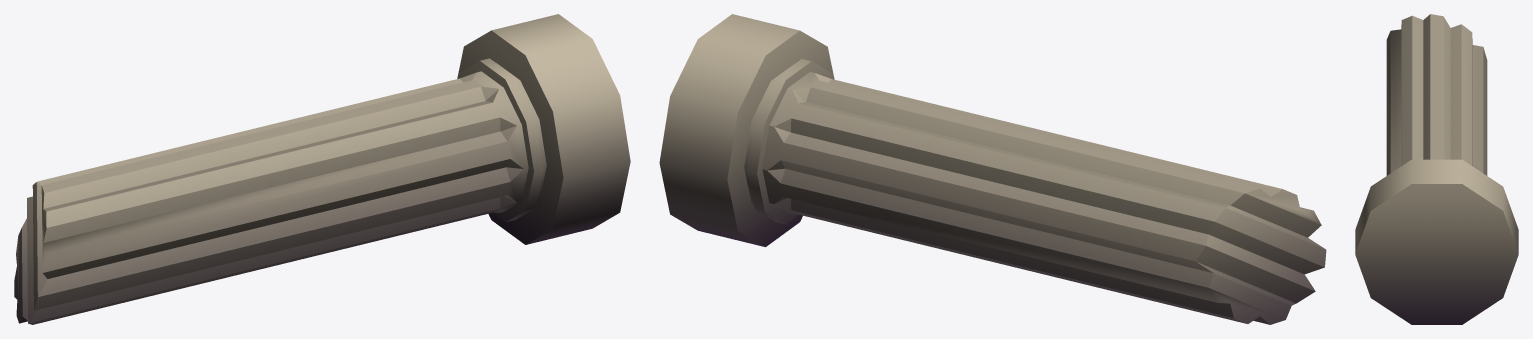
The model's file is Columna_HRota.fbx.
3 renders of one model, left to right at view 1: azimuth 30°, elevation 25°; view 2: azimuth 150°, elevation 25°; view 3: azimuth 270°, elevation 25°, orthographic. The views are drawn at different scales.
Visible parts, largest first — view 1: Columna_HRota; view 2: Columna_HRota; view 3: Columna_HRota.
Boxes of the visible parts, x1,y1,x2,y2 form: Columna_HRota: [14, 14, 630, 324]; Columna_HRota: [659, 14, 1326, 324]; Columna_HRota: [1355, 14, 1518, 324].
Bounding box in the file's own units: 918 × 291 × 305.
